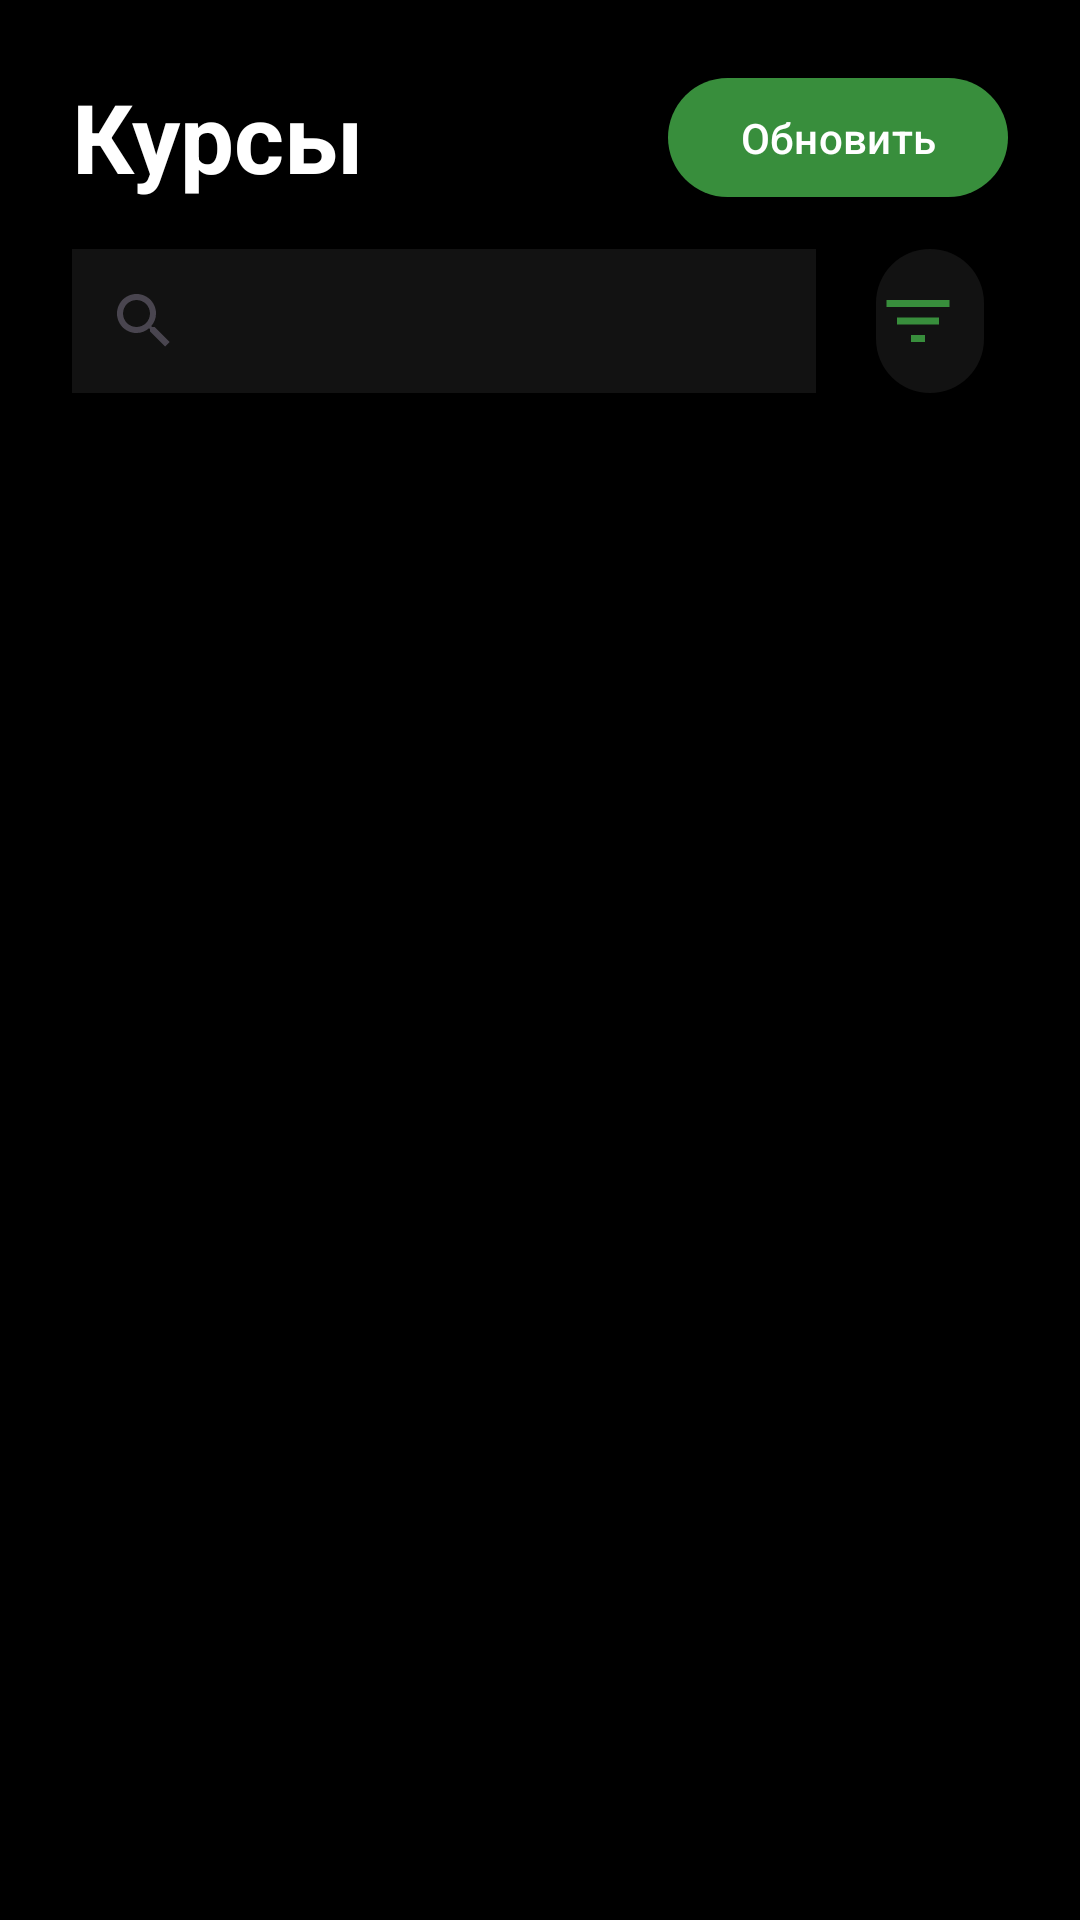

Icon click points for this 1080 × 1920 phone screenshot, format point (x, y):
filter: point (930, 321)
